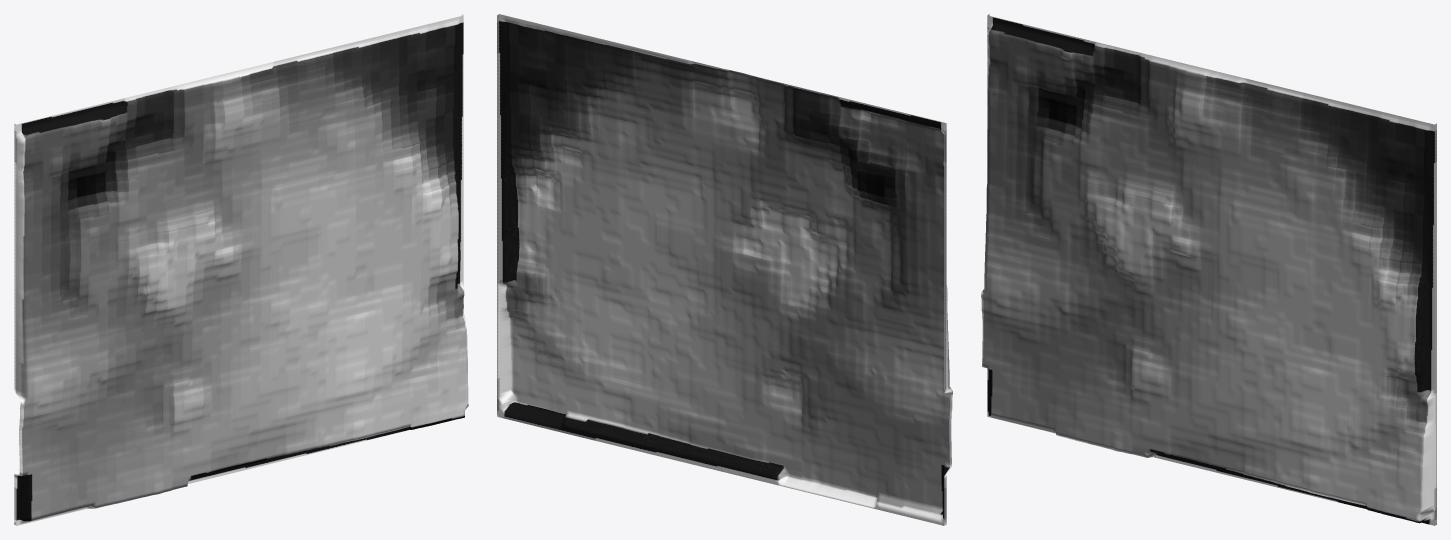
The model's file is terrain4.glb.
The picture shows the model from 3 angles, left to right: view 1: azimuth 30°, elevation 25°; view 2: azimuth 150°, elevation 25°; view 3: azimuth 330°, elevation 25°; orthographic projection.
Visible parts, largest first — view 1: Terrain_DEM_tile; view 2: Terrain_DEM_tile; view 3: Terrain_DEM_tile.
Part boxes in pixels (x1,y1,x2,y2): Terrain_DEM_tile: (14,14,468,525); Terrain_DEM_tile: (497,14,952,525); Terrain_DEM_tile: (981,14,1436,525).
Bounding box in the file's own units: 1400 × 1200 × 60.
1 material, 1 textured.
